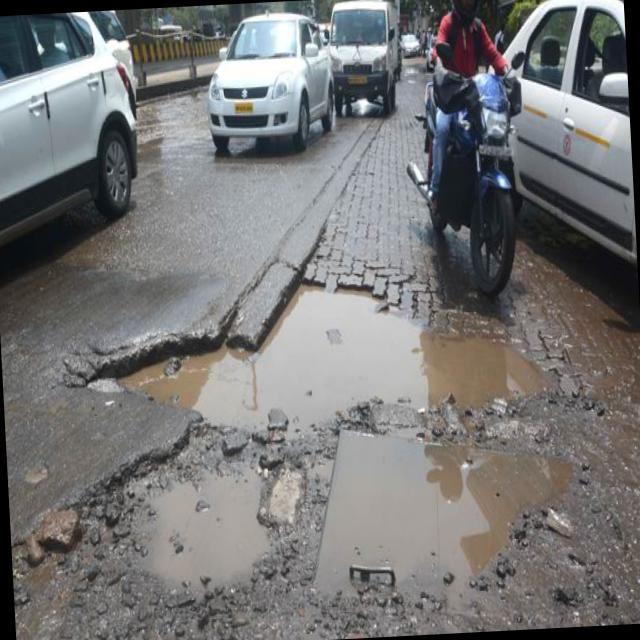Potholes: (62, 250, 560, 438), (5, 404, 306, 640), (298, 408, 595, 630)
